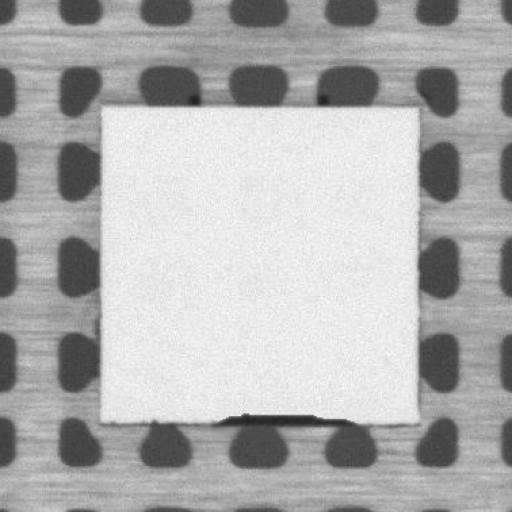DIE_BROKEN: (207, 409, 358, 427)
